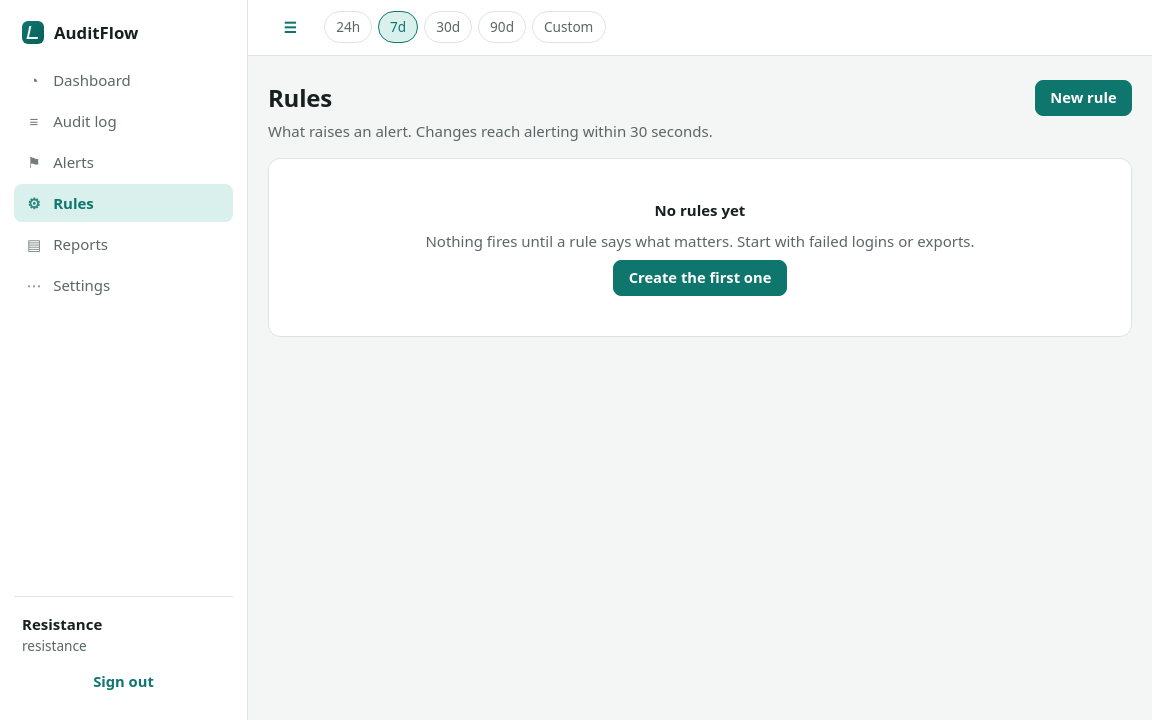
Test: rules › server-side validation lands on the field, and a name is required
Click the button "New rule" at (1083, 98), box top-left (1035, 80), bottom-right (1132, 116)
(page scrolled)
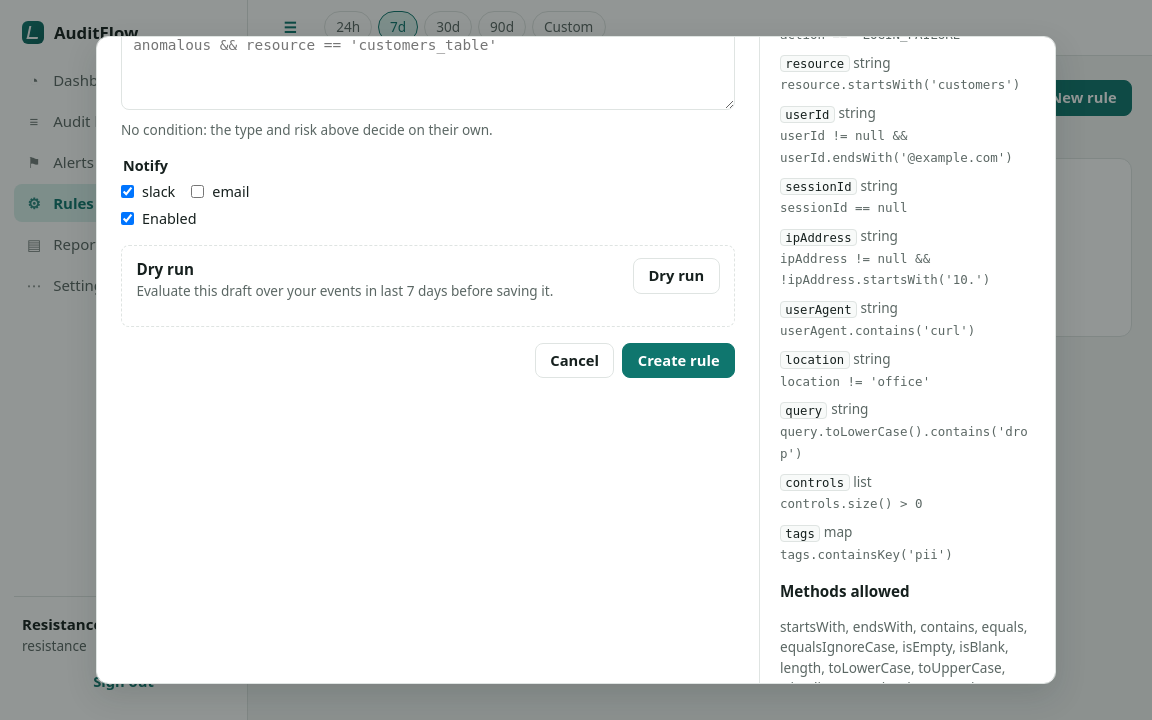
Click the button "Create rule" at (679, 360), box top-left (622, 343), bottom-right (735, 378)
(page scrolled)
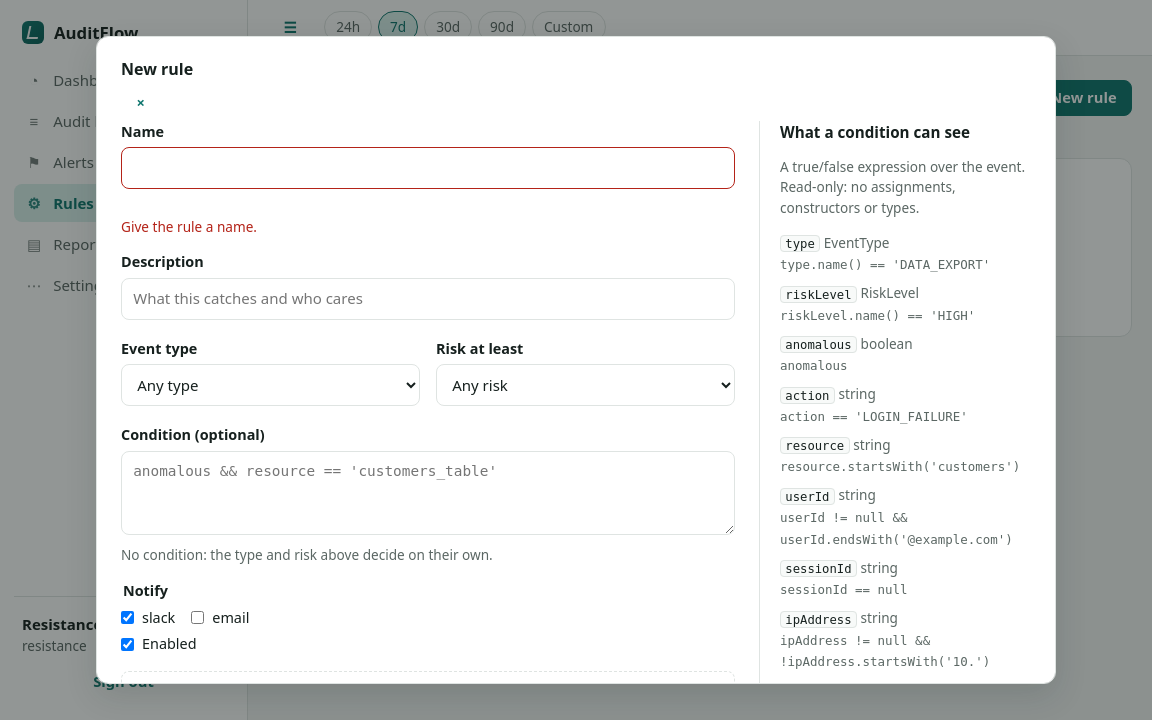
Check: the message reads "Give the rule a name.", box top-left (121, 217), bottom-right (257, 236)
Type "x" into the field labelled "Name" at (428, 168), box top-left (121, 147), bottom-right (735, 189)
(page scrolled)
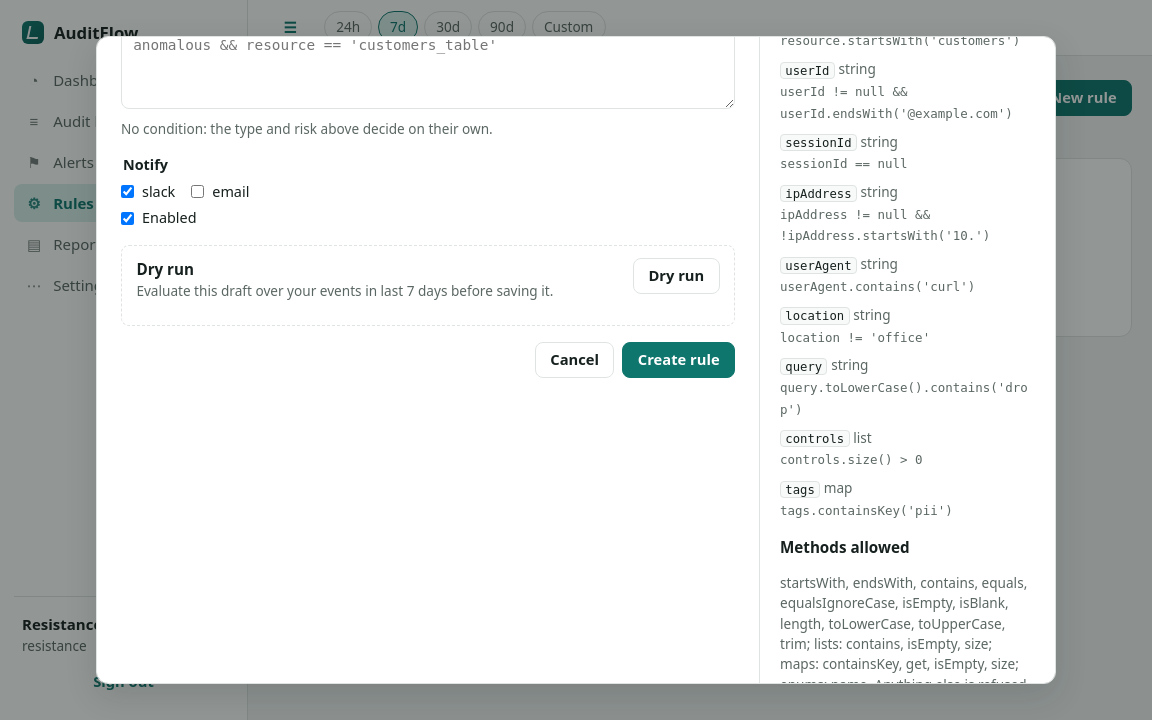
Click the button "Create rule" at (679, 360), box top-left (622, 342), bottom-right (735, 378)
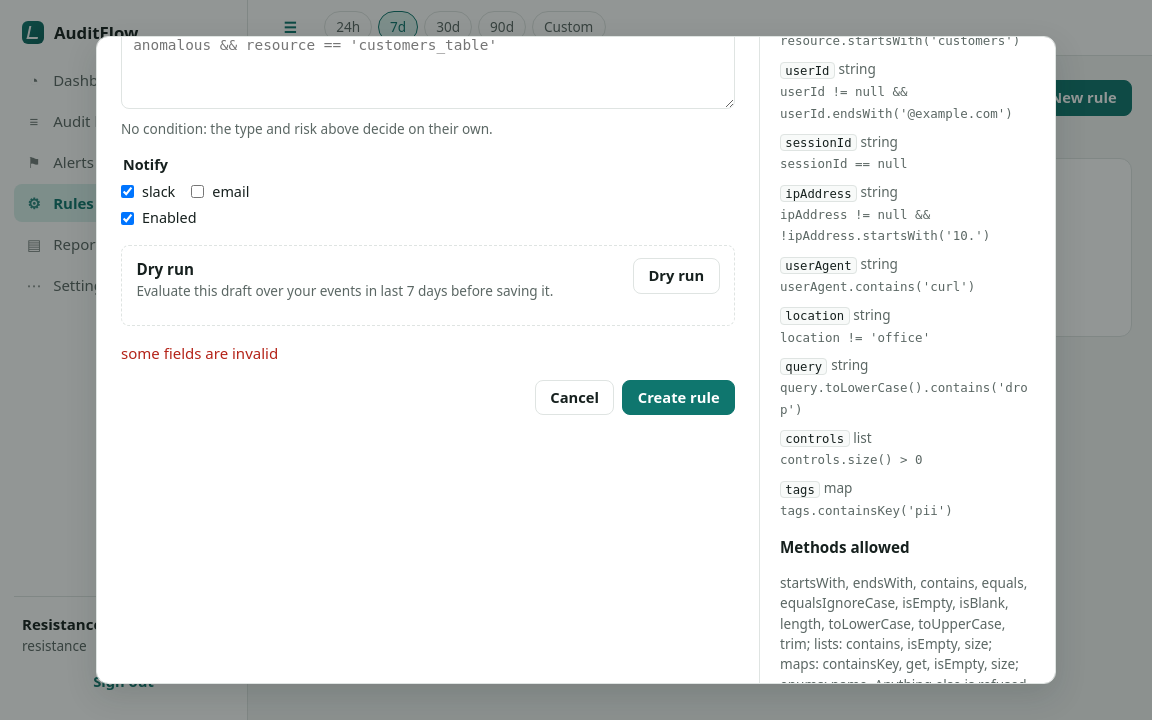
Check: the text "some fields are invalid" is shown, box top-left (121, 343), bottom-right (278, 363)
